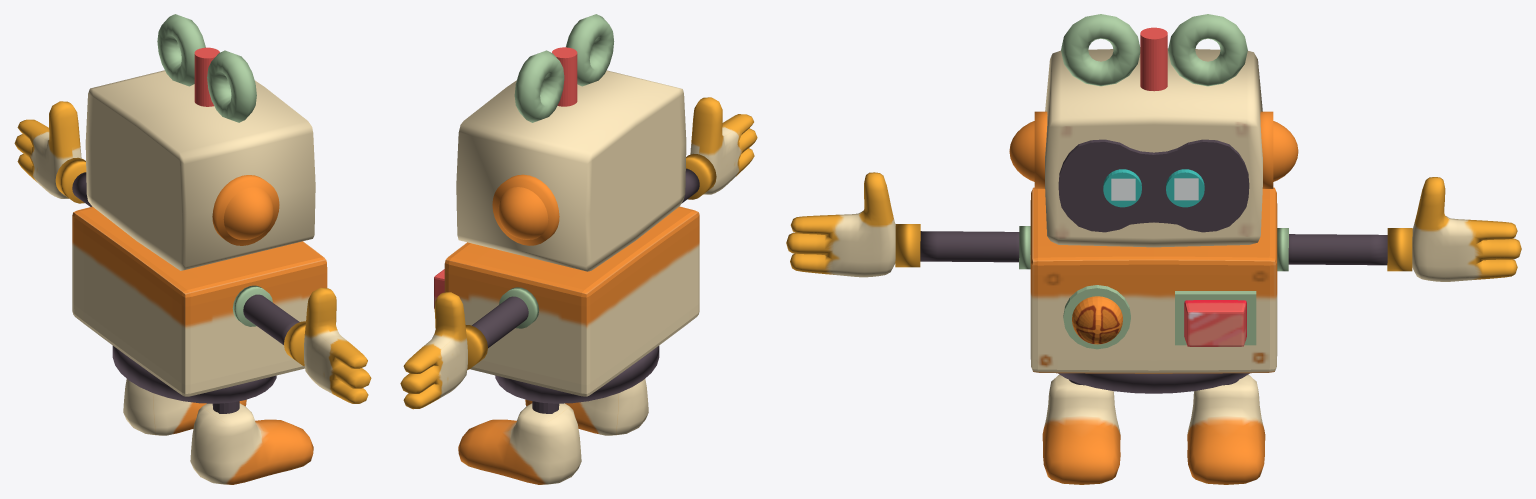
Rendered from robot_bot.glb.
3 renders of one model, left to right at view 1: azimuth 30°, elevation 25°; view 2: azimuth 150°, elevation 25°; view 3: azimuth 270°, elevation 25°, orthographic. The views are drawn at different scales.
Bounding box in the file's own units: 1.29 × 3.01 × 4.52.
Materials: 3 (2 with a texture image).
